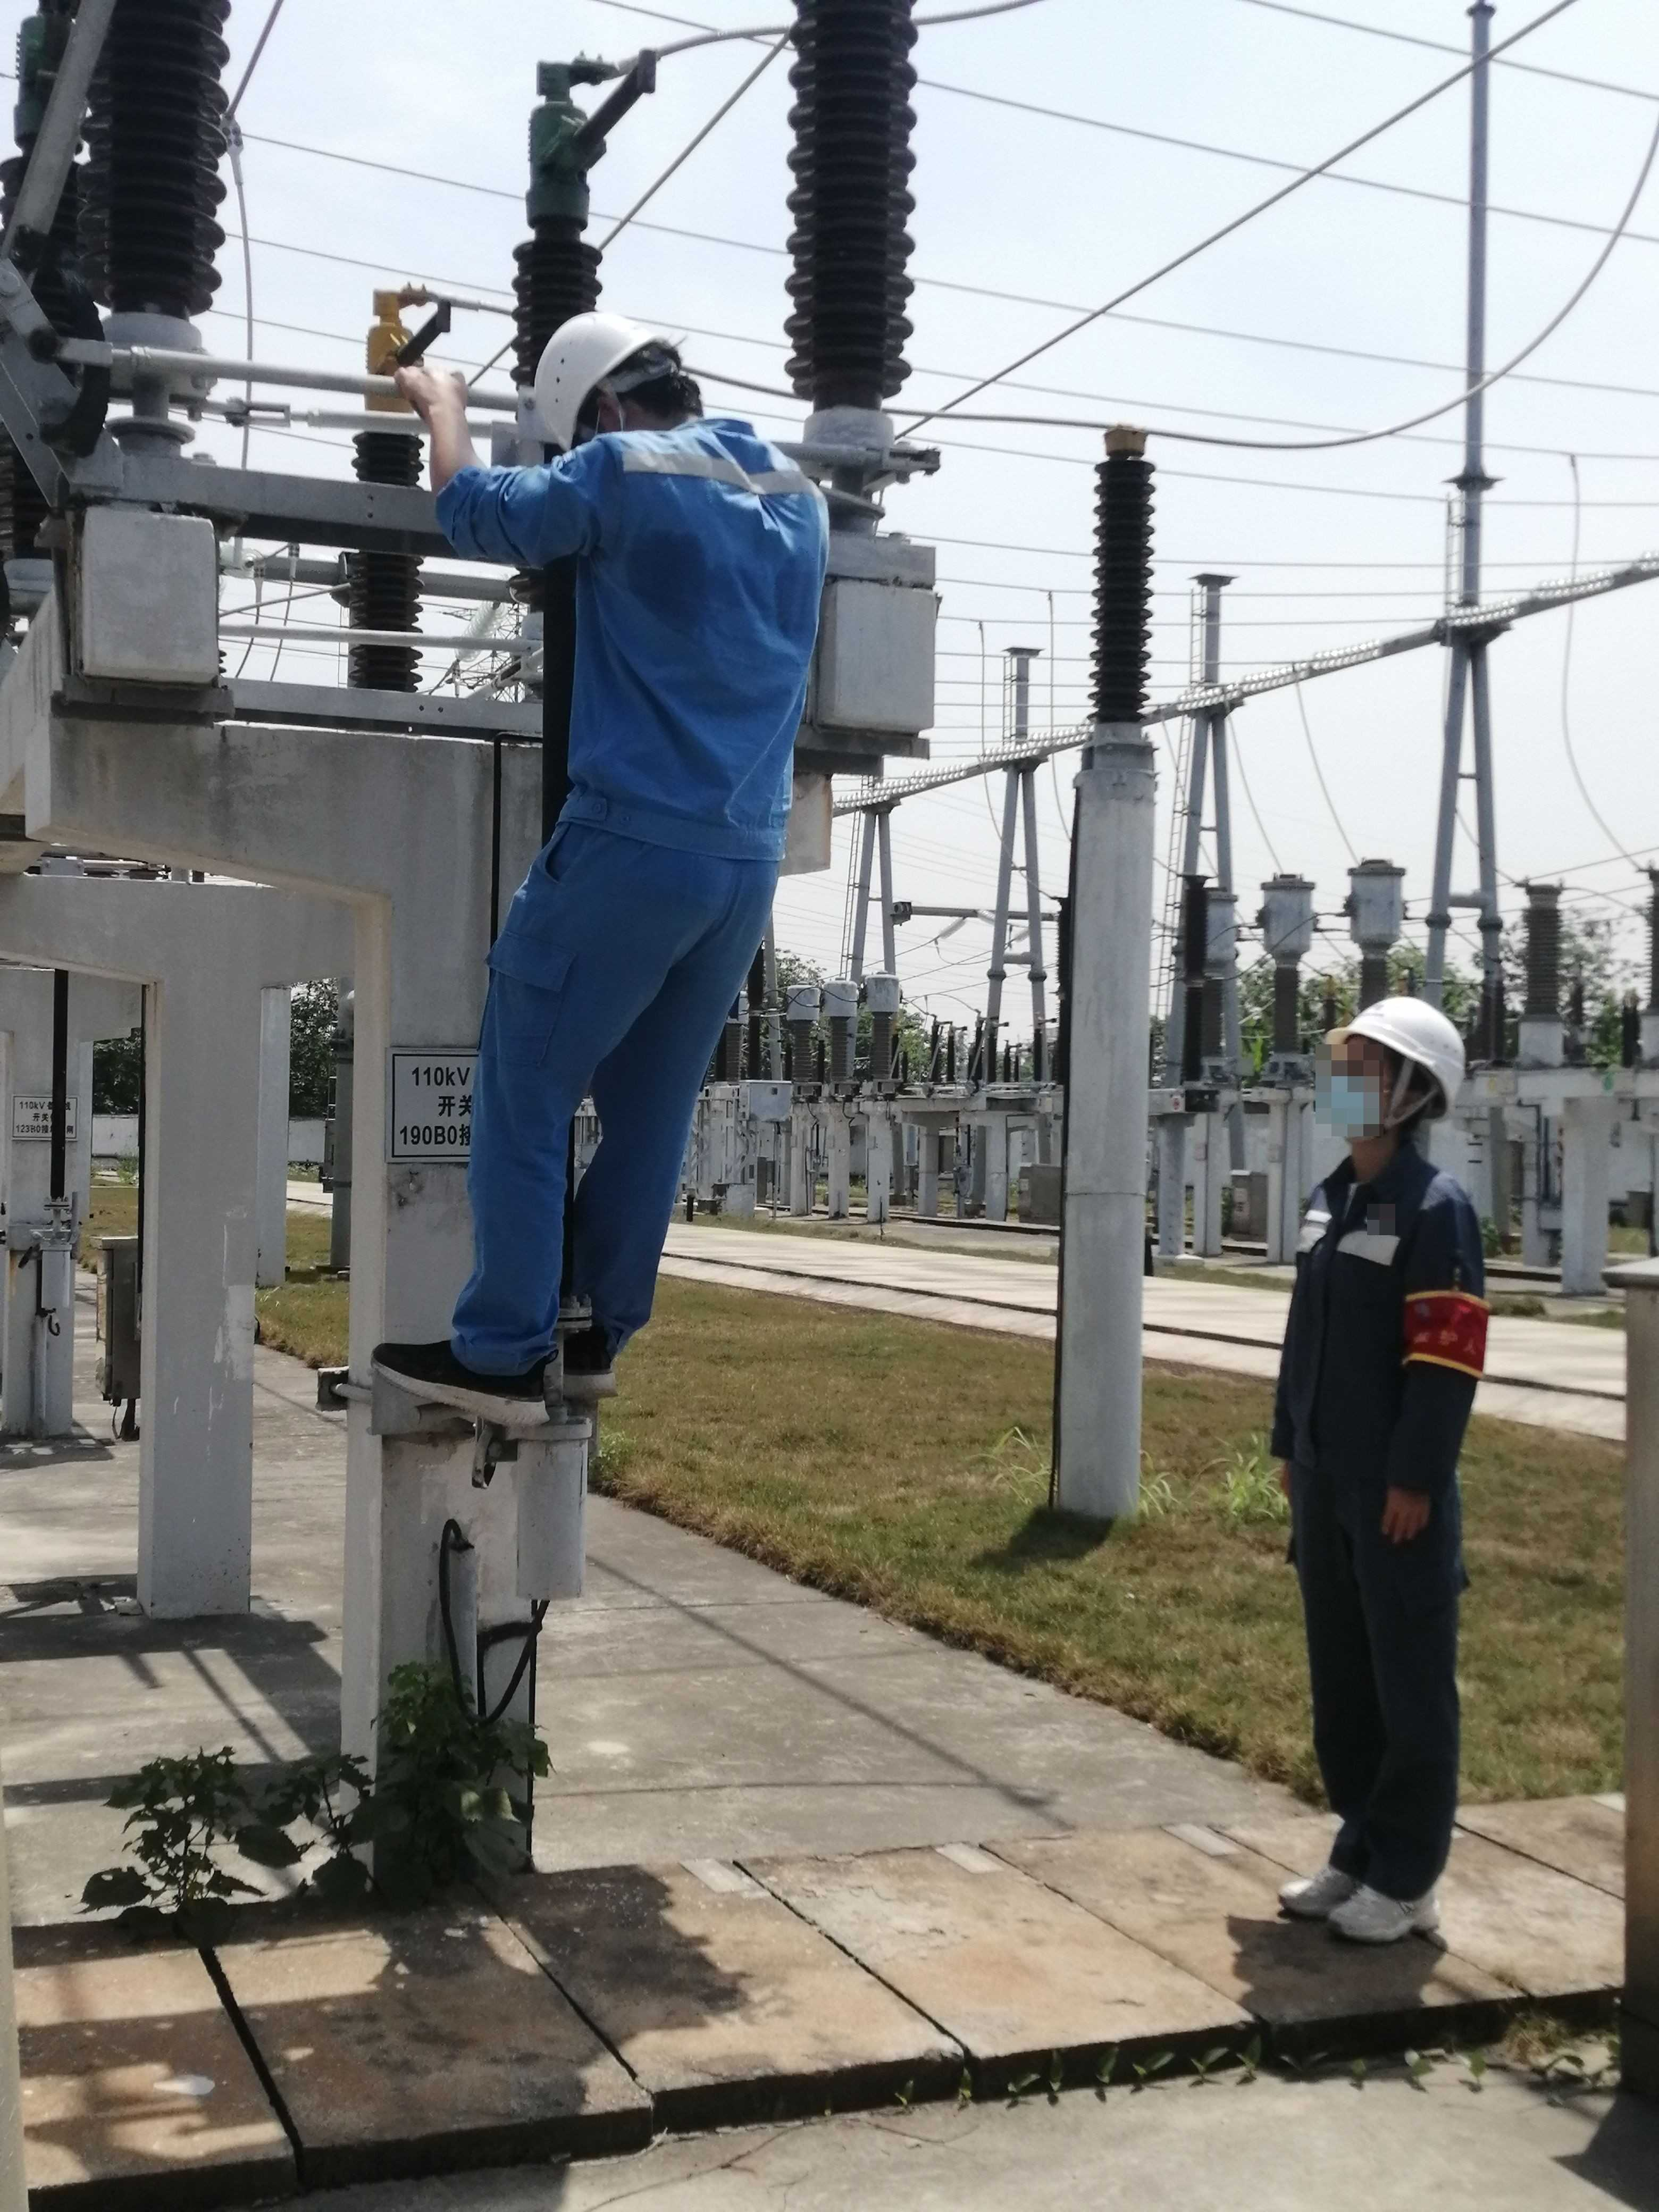downsuit: (450, 874, 781, 1362), (1288, 1496, 1469, 1890)
upsuit: (451, 420, 831, 843), (1274, 1157, 1485, 1487)
wrongtop: (401, 359, 511, 523)
